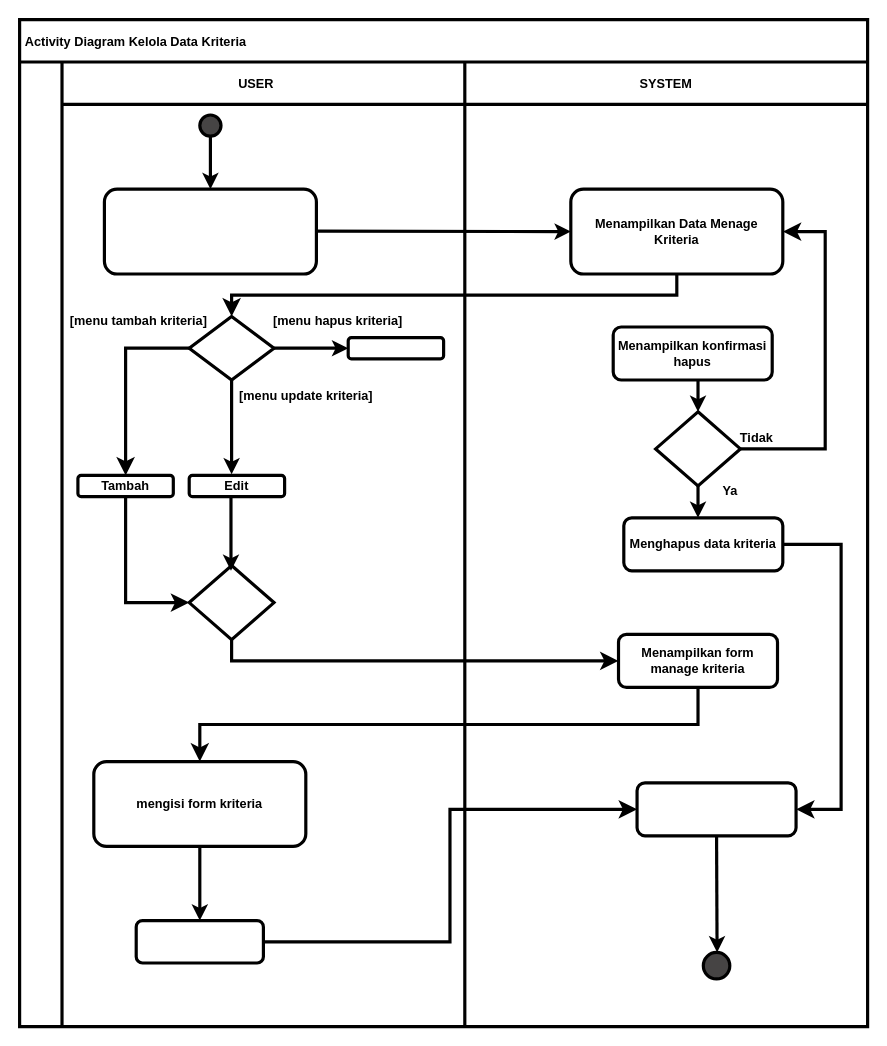
This 887x1046 diagram has some shape labels left out. Each missing label, with the centre of its shape:
"delete" goes at pixel 395 347.
"Klik Tombol Simpan" goes at pixel 199 941.
"Memilih Menu Kriteria" goes at pixel 209 231.
"Menyimpan dan menampilkan data kriteria" goes at pixel 716 809.
